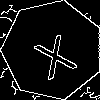X: (27, 25, 79, 81)
